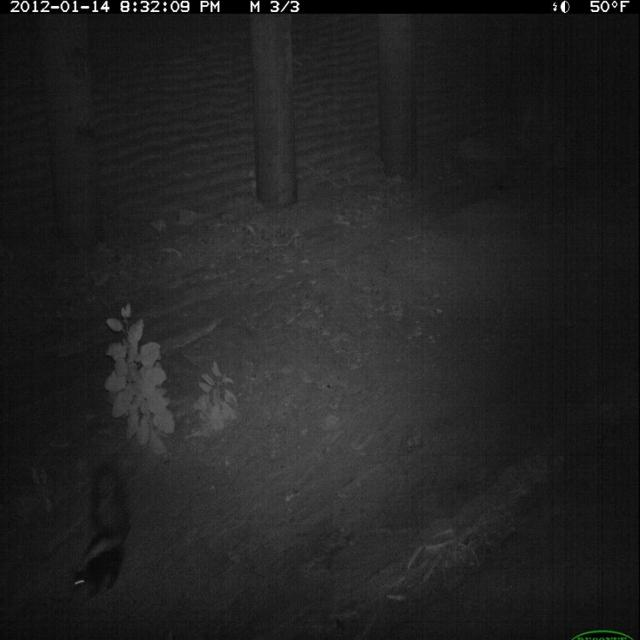skunk: (67, 455, 134, 606)
